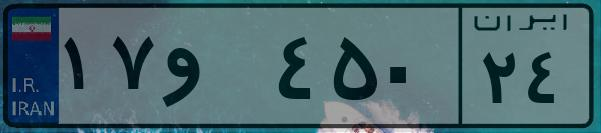0: (385, 28, 445, 110)
1: (57, 26, 110, 100)
2: (475, 38, 525, 113)
4: (270, 28, 330, 110), (525, 38, 570, 115)
5: (330, 28, 385, 110)
7: (110, 28, 158, 98)
و: (158, 20, 270, 120)
